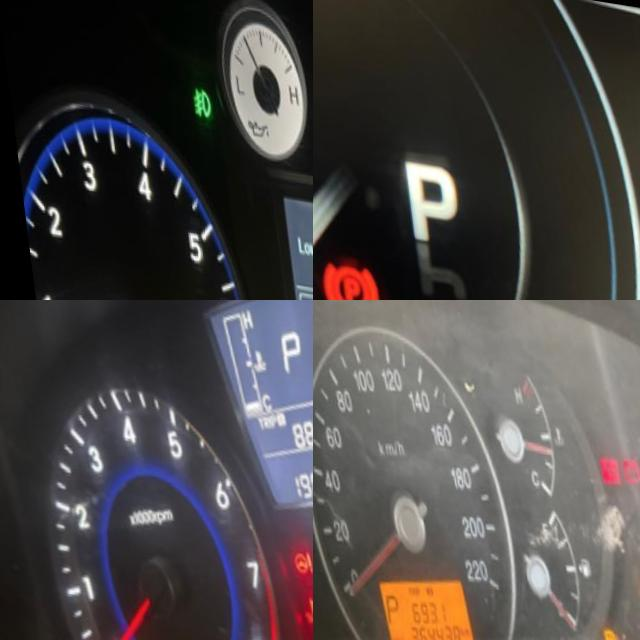Engine cooling system: (288, 579, 313, 616)
security: (627, 558, 640, 588)
